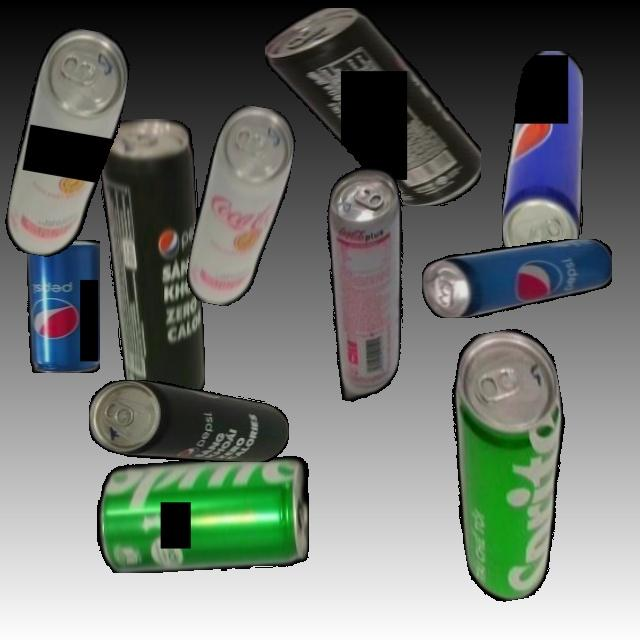debris: (429, 323, 594, 606), (264, 8, 481, 206), (295, 161, 431, 408), (1, 22, 135, 265), (99, 118, 205, 407), (96, 455, 309, 573), (183, 100, 300, 313), (501, 50, 583, 270), (89, 379, 289, 462), (422, 238, 612, 318), (27, 239, 100, 373)
